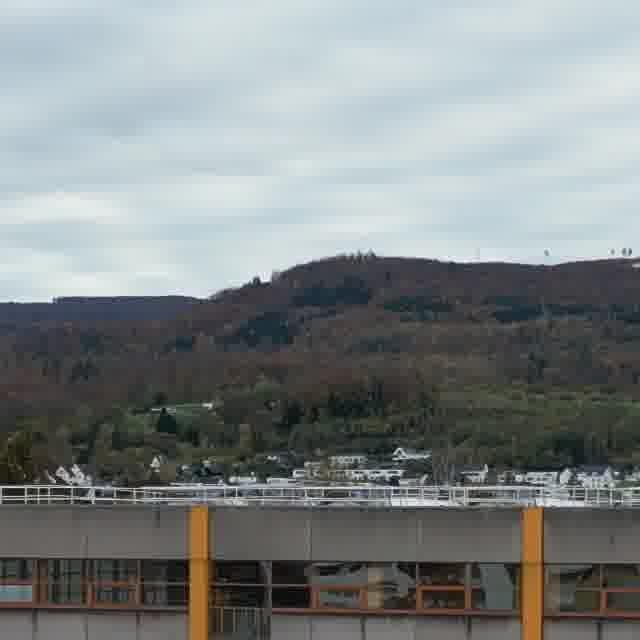Drohne: (152, 405, 177, 414)
